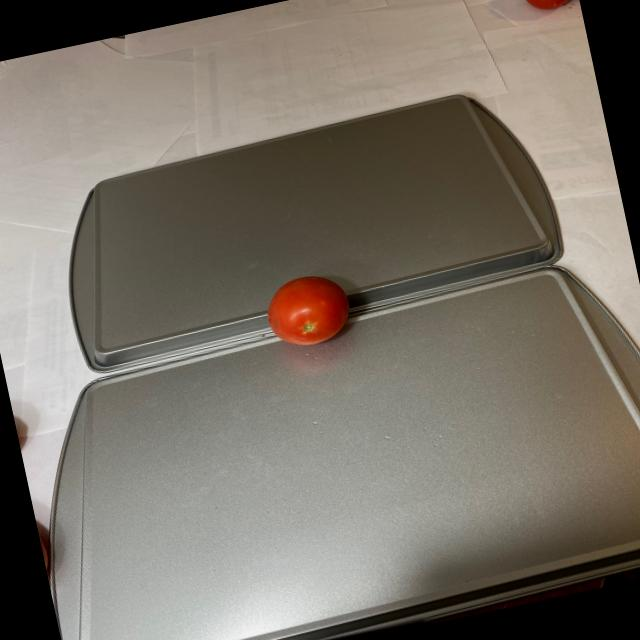tomato: (255, 263, 362, 354), (510, 0, 580, 25)
